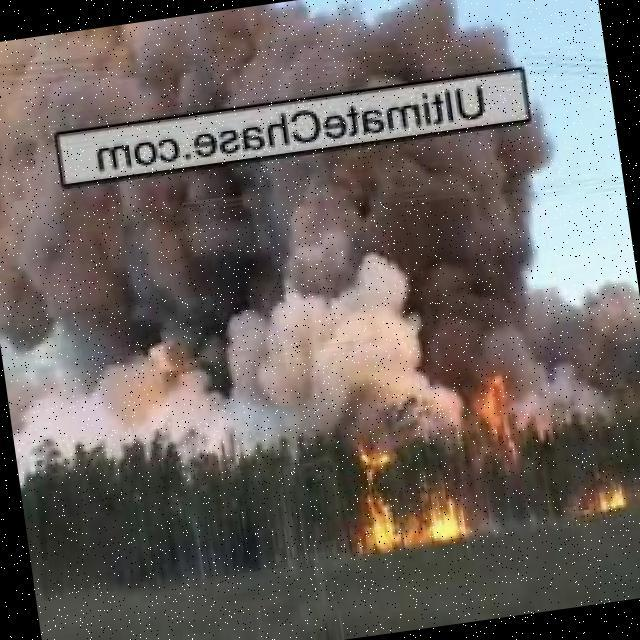Fire: (341, 433, 470, 559), (467, 372, 527, 458), (582, 474, 631, 517)
